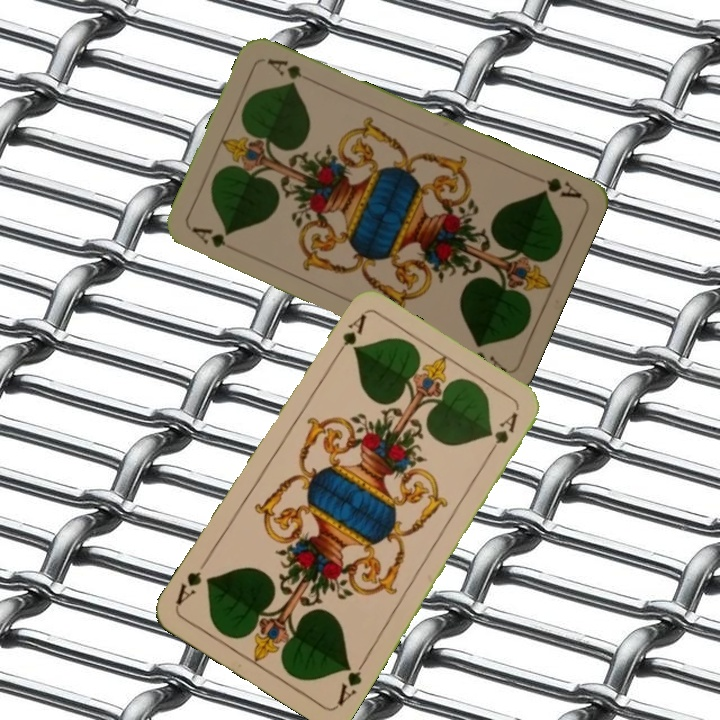GA: (329, 311, 369, 363), (333, 654, 370, 709), (187, 223, 242, 256), (535, 173, 585, 201)
